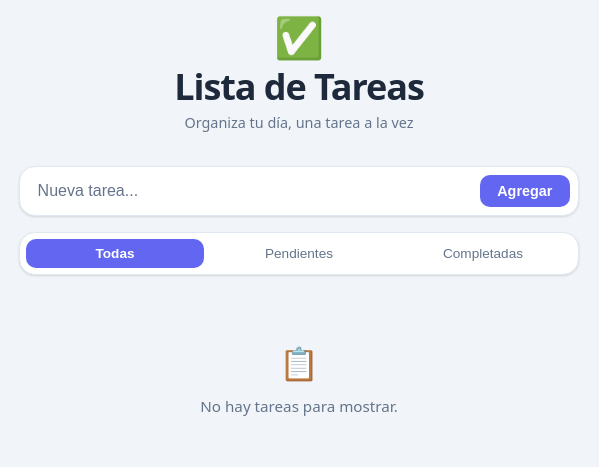
Test: App — agregar una nueva tarea › agrega varias tareas y todas aparecen en la lista
Type "Tarea 1" into the field with placeholder "Nueva tarea..." at (250, 191), box top-left (28, 175), bottom-right (472, 207)
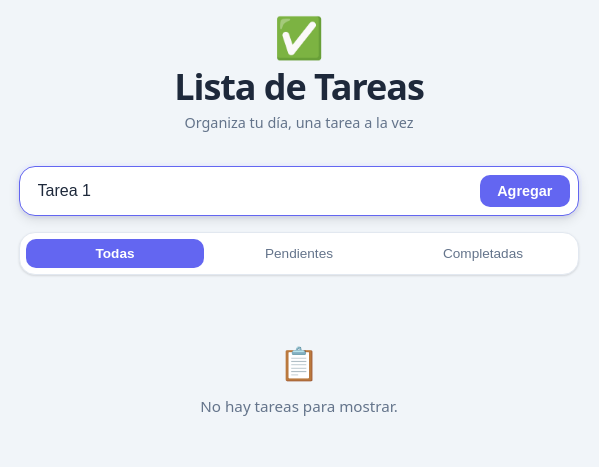
Click the button "Agregar" at (525, 191), box top-left (480, 175), bottom-right (570, 207)
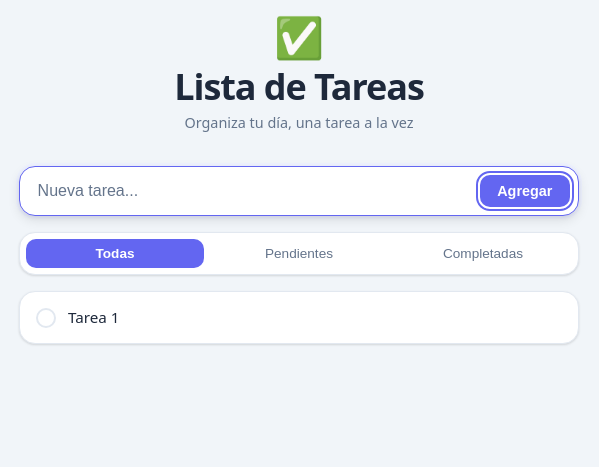
Type "Tarea 2" into the field with placeholder "Nueva tarea..." at (250, 191), box top-left (28, 175), bottom-right (472, 207)
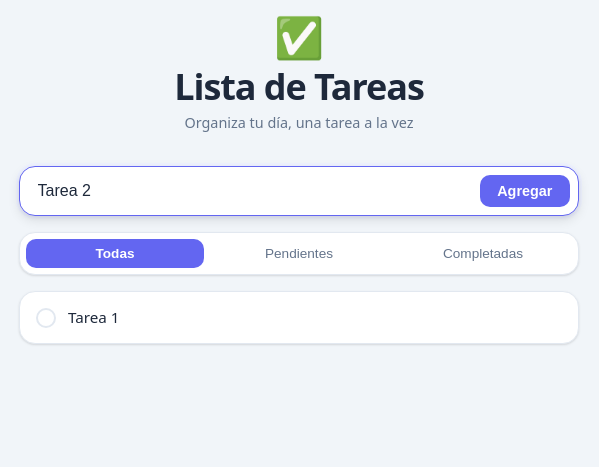
Click the button "Agregar" at (525, 191), box top-left (480, 175), bottom-right (570, 207)
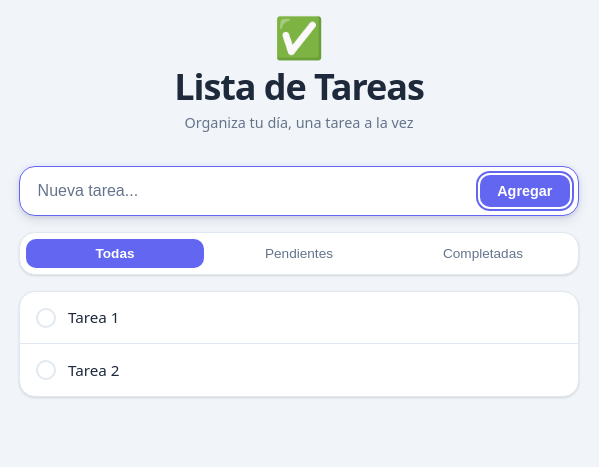
Type "Tarea 3" into the field with placeholder "Nueva tarea..." at (250, 191), box top-left (28, 175), bottom-right (472, 207)
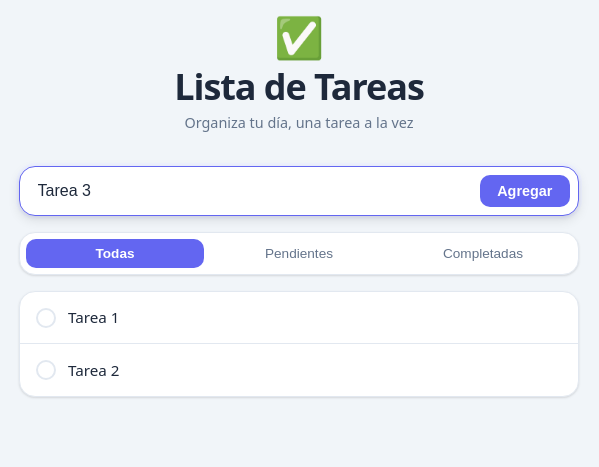
Click the button "Agregar" at (525, 191), box top-left (480, 175), bottom-right (570, 207)
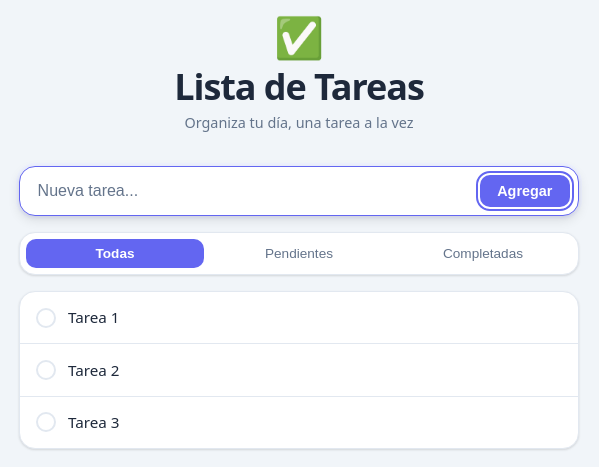
Check: the number of list items is 3, box top-left (36, 307), bottom-right (120, 328); top-left (20, 343), bottom-right (578, 396); top-left (20, 396), bottom-right (578, 448)
